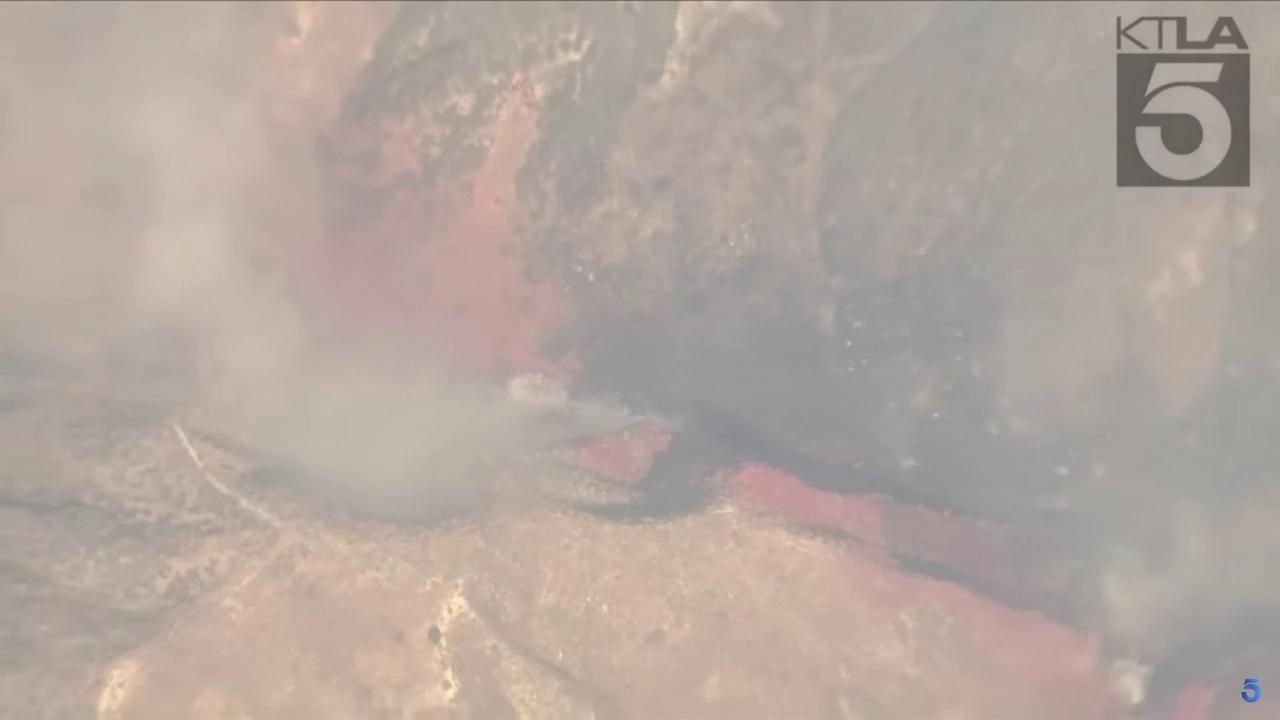smoke: (0, 0, 645, 527), (999, 0, 1280, 711)
